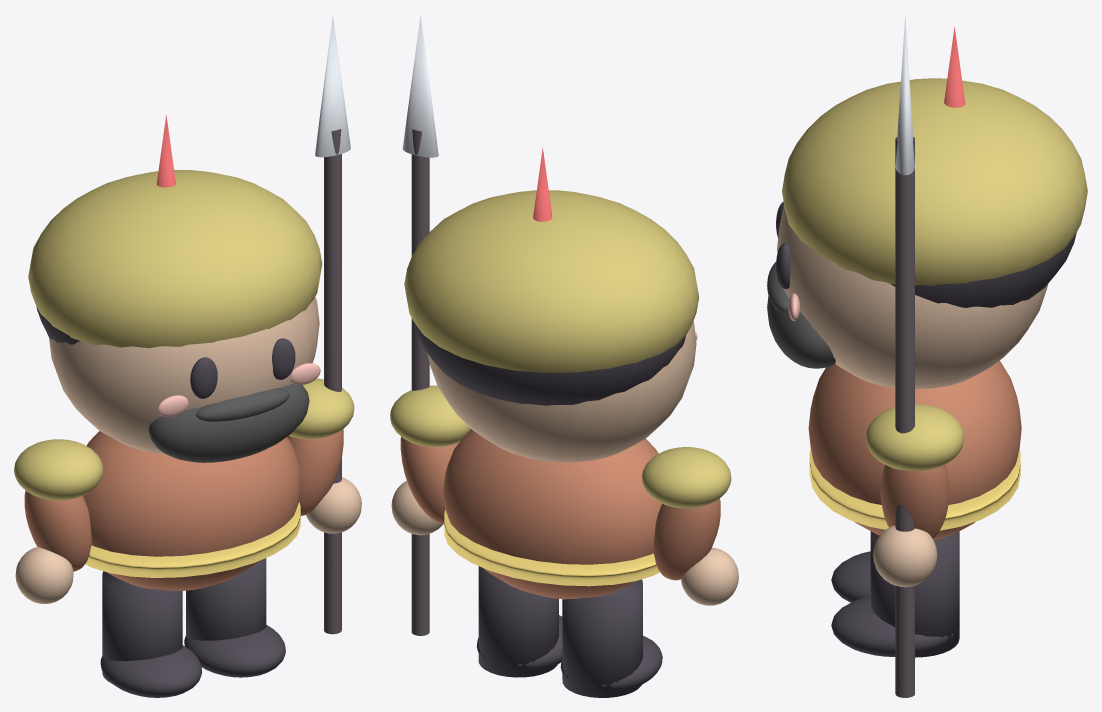
Rendered from yt_lieutenant.fbx.
The picture shows the model from 3 angles, left to right: view 1: azimuth 30°, elevation 25°; view 2: azimuth 150°, elevation 25°; view 3: azimuth 270°, elevation 25°; orthographic projection. The views are drawn at different scales.
Parts seen in each view (by area): view 1: helmet, body, head_mesh, beard, wp_shaft, leg, leg.001, belt, pauldron.001, arm_mesh.001, shoe, shoe.001 (+10 smaller); view 2: helmet, body, head_mesh, leg, hair, leg.001, belt, wp_shaft, pauldron.001, arm_mesh.001, pauldron, arm_mesh (+6 smaller); view 3: helmet, head_mesh, body, wp_shaft, leg.001, pauldron, belt, hair, arm_mesh, hand_mesh, shoe.001, beard (+5 smaller).
Boxes of the visible parts, x1=… form: helmet: x1=28, y1=170, x2=322, y2=348; body: x1=83, y1=431, x2=301, y2=590; head_mesh: x1=49, y1=297, x2=319, y2=453; beard: x1=148, y1=383, x2=309, y2=462; wp_shaft: x1=324, y1=129, x2=341, y2=634; leg: x1=102, y1=571, x2=182, y2=683; leg.001: x1=186, y1=558, x2=266, y2=640; belt: x1=85, y1=502, x2=300, y2=577; pauldron.001: x1=14, y1=439, x2=103, y2=500; arm_mesh.001: x1=24, y1=490, x2=91, y2=571; shoe: x1=100, y1=645, x2=201, y2=697; shoe.001: x1=184, y1=625, x2=285, y2=677; helmet: x1=404, y1=190, x2=699, y2=372; body: x1=443, y1=429, x2=662, y2=599; head_mesh: x1=428, y1=321, x2=696, y2=462; leg: x1=562, y1=579, x2=642, y2=697; hair: x1=413, y1=322, x2=685, y2=405; leg.001: x1=478, y1=566, x2=558, y2=677; belt: x1=444, y1=510, x2=659, y2=586; wp_shaft: x1=411, y1=129, x2=429, y2=635; pauldron.001: x1=642, y1=447, x2=731, y2=508; arm_mesh.001: x1=653, y1=498, x2=720, y2=580; pauldron: x1=390, y1=385, x2=470, y2=446; arm_mesh: x1=400, y1=436, x2=459, y2=523; helmet: x1=782, y1=78, x2=1087, y2=285; head_mesh: x1=777, y1=207, x2=1047, y2=389; body: x1=808, y1=360, x2=1021, y2=539; wp_shaft: x1=895, y1=137, x2=914, y2=697; leg.001: x1=870, y1=531, x2=959, y2=657; pauldron: x1=866, y1=404, x2=964, y2=470; belt: x1=809, y1=449, x2=1020, y2=530; hair: x1=891, y1=233, x2=1076, y2=307; arm_mesh: x1=880, y1=464, x2=949, y2=538; hand_mesh: x1=873, y1=525, x2=937, y2=587; shoe.001: x1=831, y1=596, x2=957, y2=656; beard: x1=767, y1=296, x2=835, y2=368.
Bounding box in the file's own units: 0.874 × 1.54 × 0.65.
